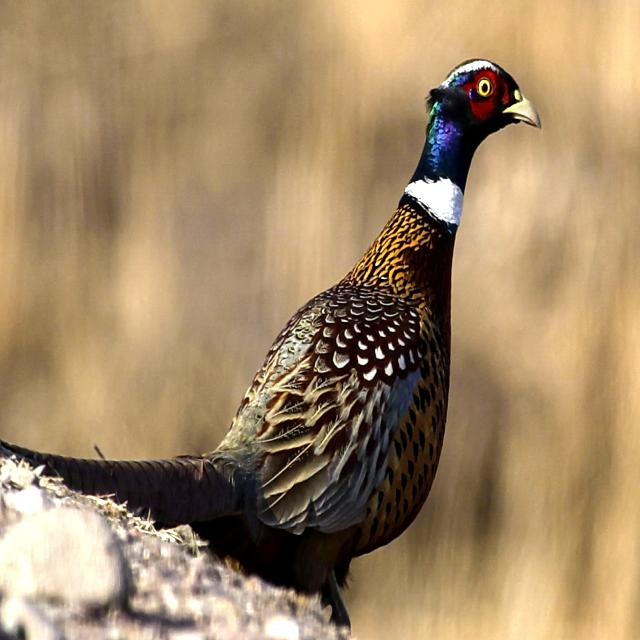Phasianus Colchicus: (2, 443, 238, 527)
